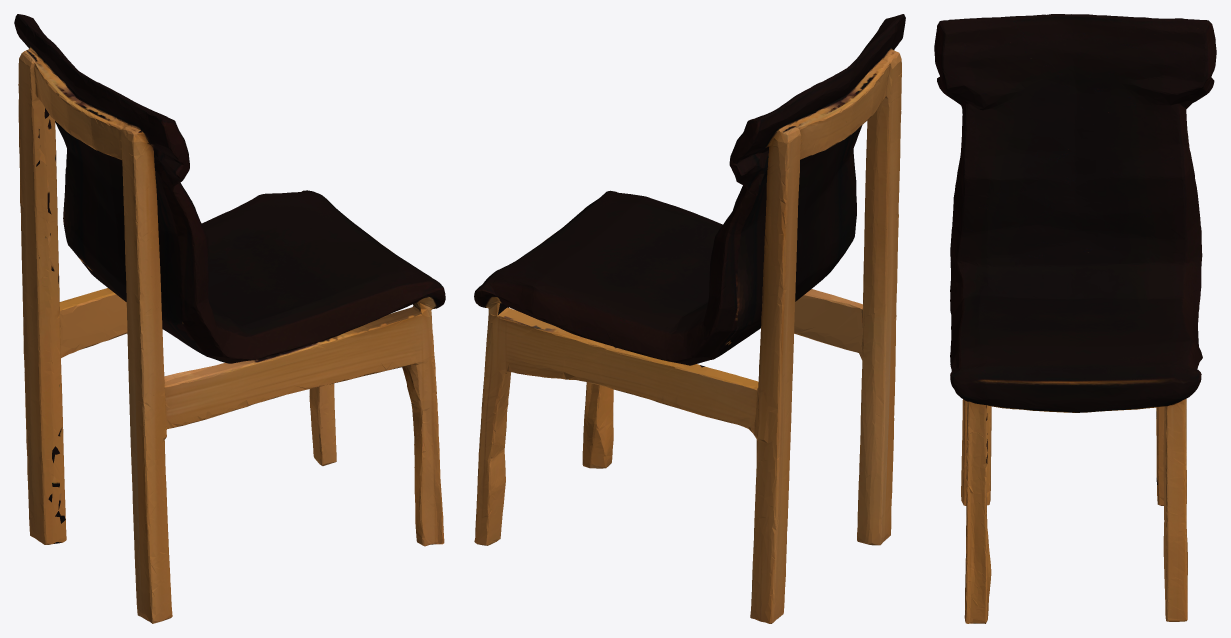
Rendered from hunyuan3d_textured.obj.
The picture shows the model from 3 angles, left to right: view 1: azimuth 30°, elevation 25°; view 2: azimuth 150°, elevation 25°; view 3: azimuth 270°, elevation 25°; orthographic projection. The views are drawn at different scales.
Parts seen in each view (by area): view 1: hunyuan3d_textured; view 2: hunyuan3d_textured; view 3: hunyuan3d_textured.
Part boxes in pixels (box(x1,y1,x2,y2)): hunyuan3d_textured: box(14, 14, 445, 623); hunyuan3d_textured: box(474, 14, 905, 623); hunyuan3d_textured: box(934, 14, 1216, 623).
Bounding box in the file's own units: 1.3 × 2 × 1.07.
1 material, 1 textured.
